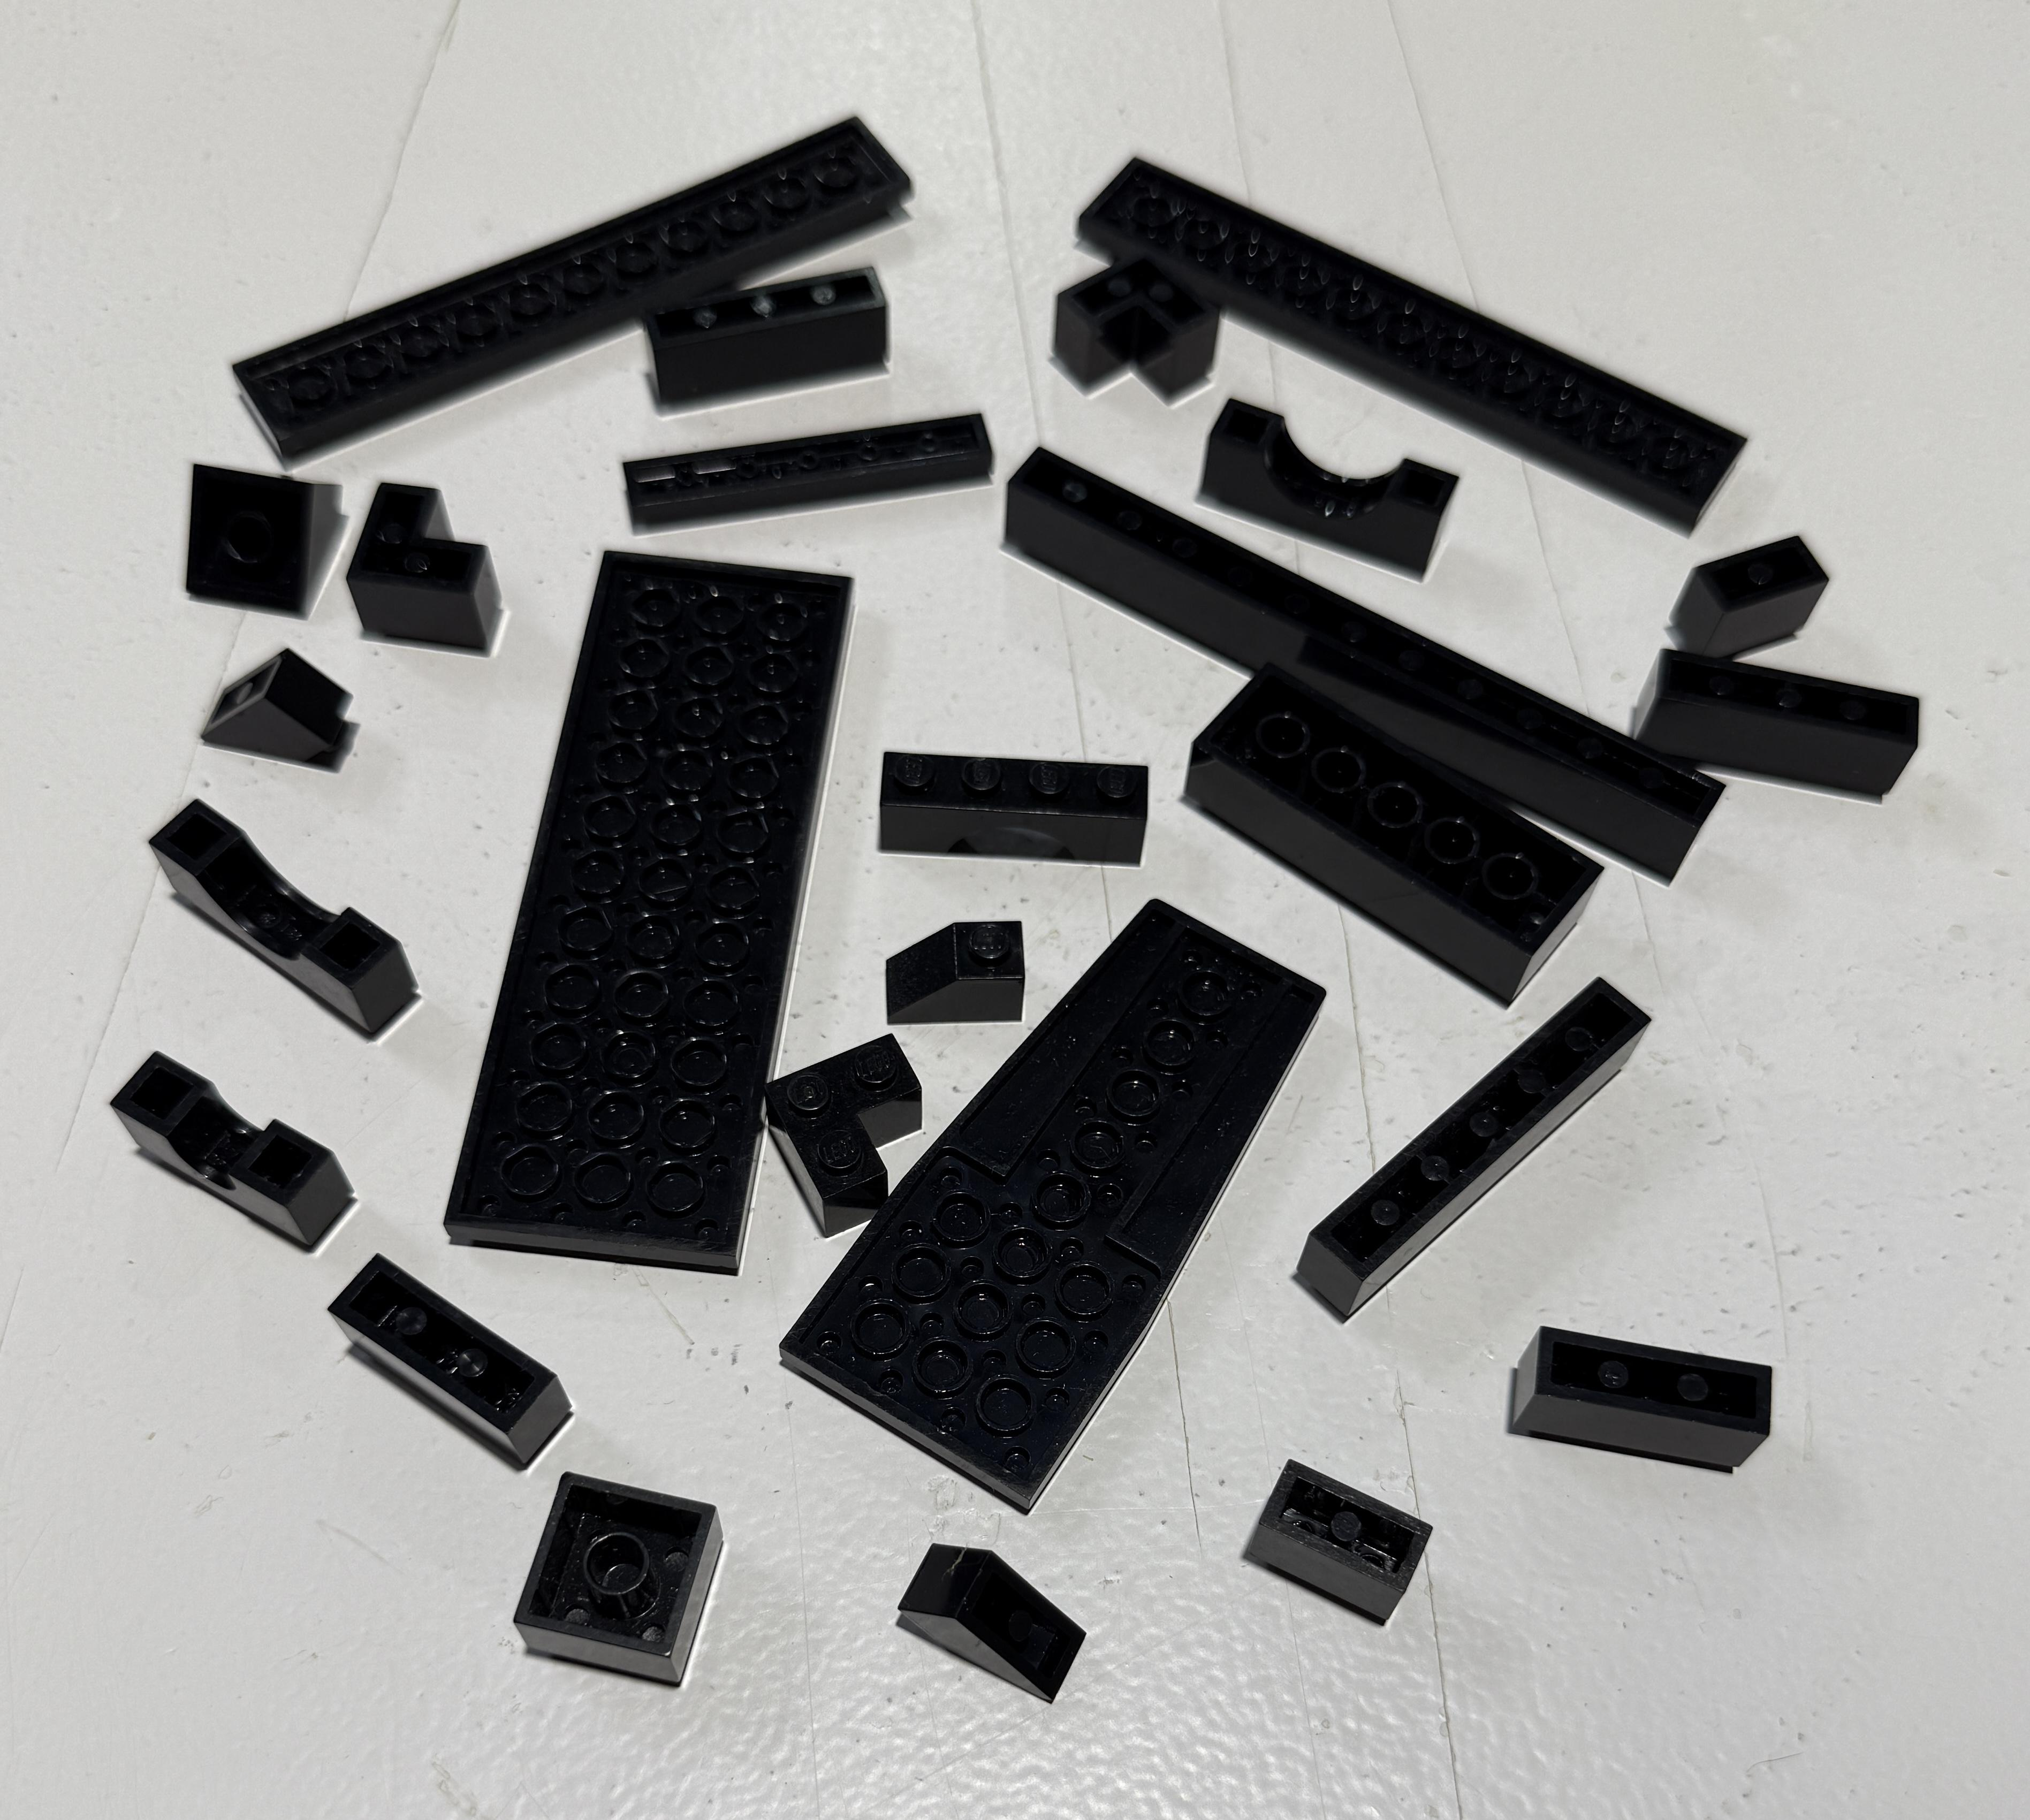brick_1x2: (1220, 1430, 1455, 1644), (1628, 504, 1852, 687)
brick_2x2: (468, 1446, 750, 1715)
